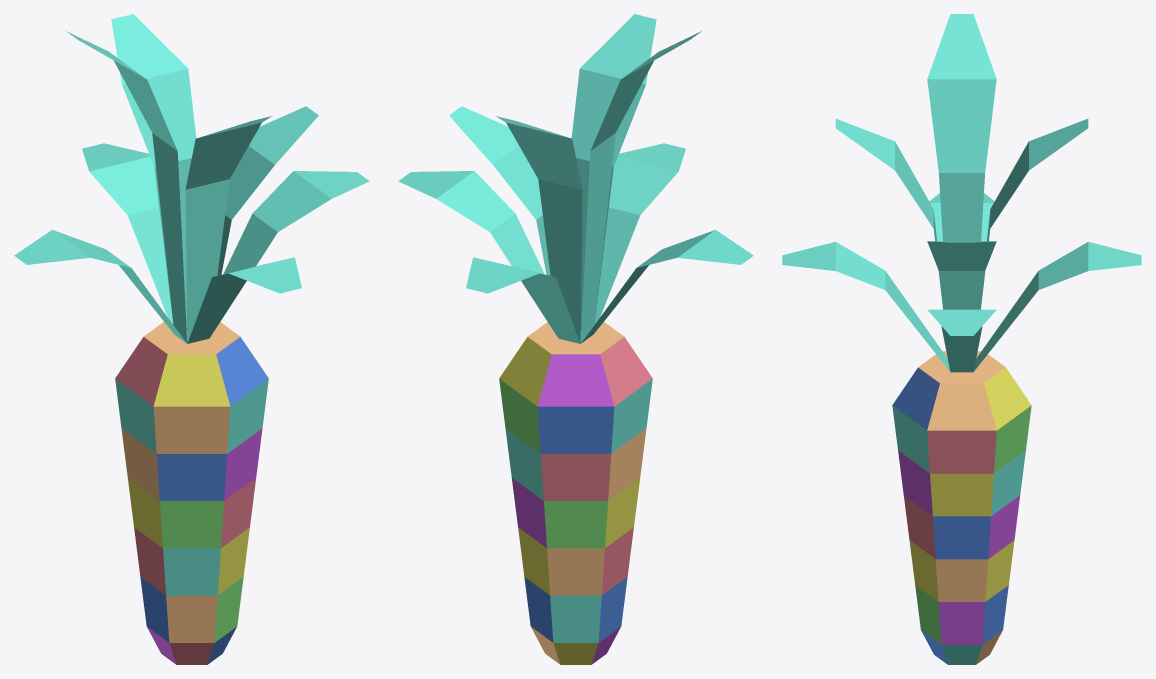
Rendered from carrot.fbx.
3 views of the same model, side by side, from view 1: azimuth 30°, elevation 25°; view 2: azimuth 150°, elevation 25°; view 3: azimuth 270°, elevation 25° (orthographic). The views are drawn at different scales.
Visible parts, largest first — view 1: crop_carrot; view 2: crop_carrot; view 3: crop_carrot.
Part boxes in pixels (x1,y1,x2,y2): crop_carrot: [14, 14, 369, 664]; crop_carrot: [398, 14, 753, 664]; crop_carrot: [782, 14, 1141, 664].
Bounding box in the file's own units: 34.31 × 61.94 × 34.31.
